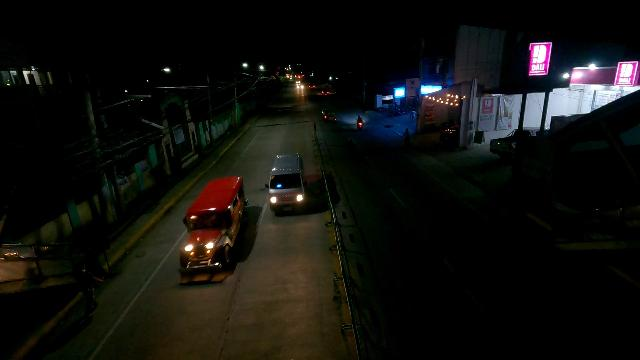jeepney: (179, 176, 247, 274)
van: (265, 153, 305, 214)
